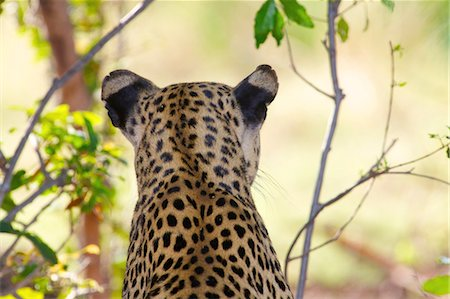Cheetah: (98, 58, 296, 299)
